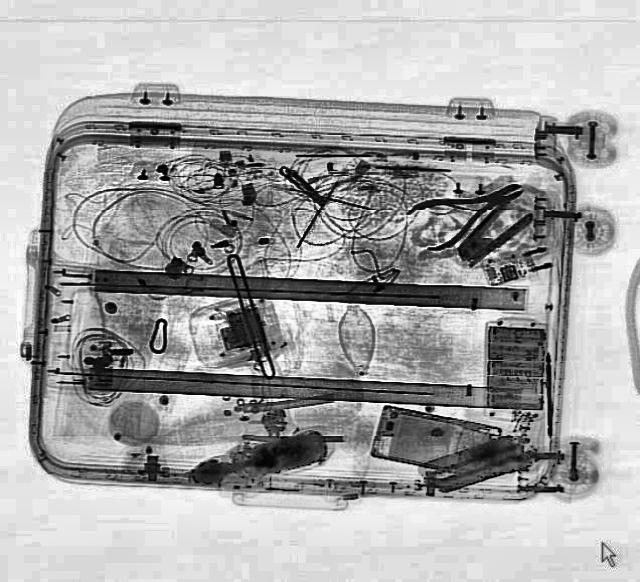Pliers: (400, 166, 536, 254)
